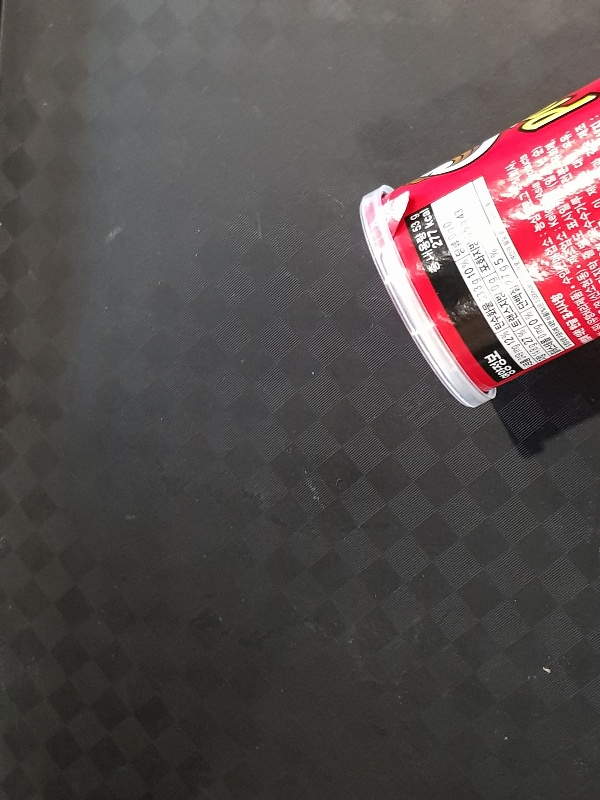Pringles Original: (358, 74, 600, 413)
